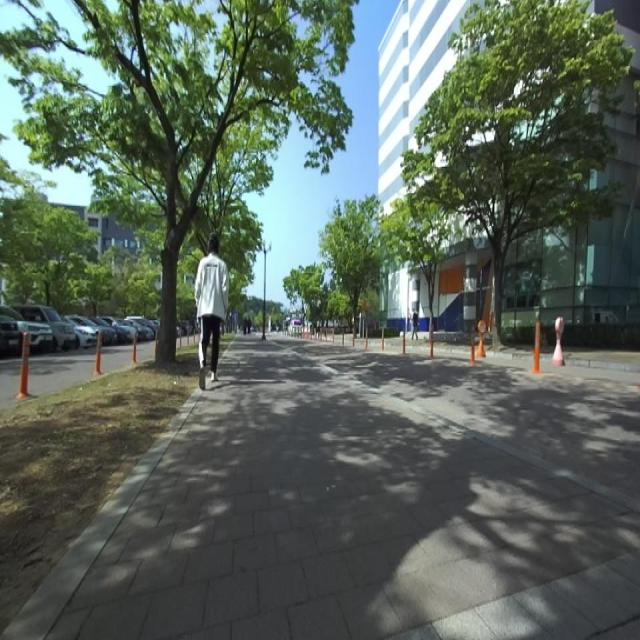sidewalk: (3, 338, 640, 639)
